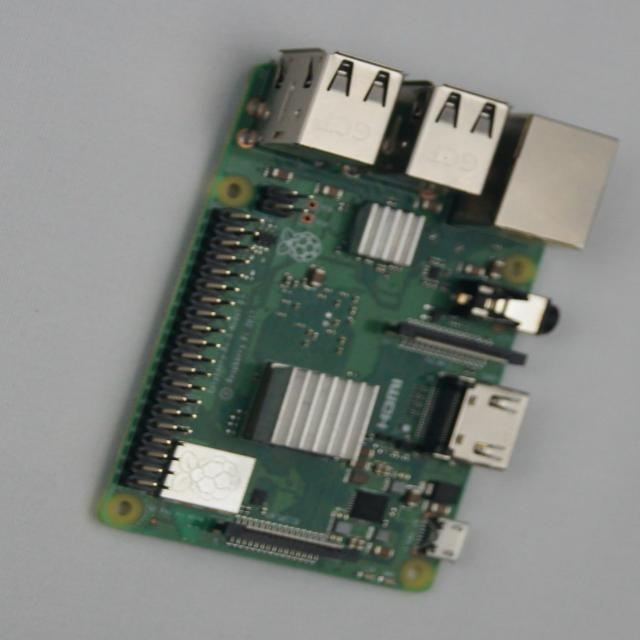Raspberry Pi 3 B-: (98, 50, 618, 591)
